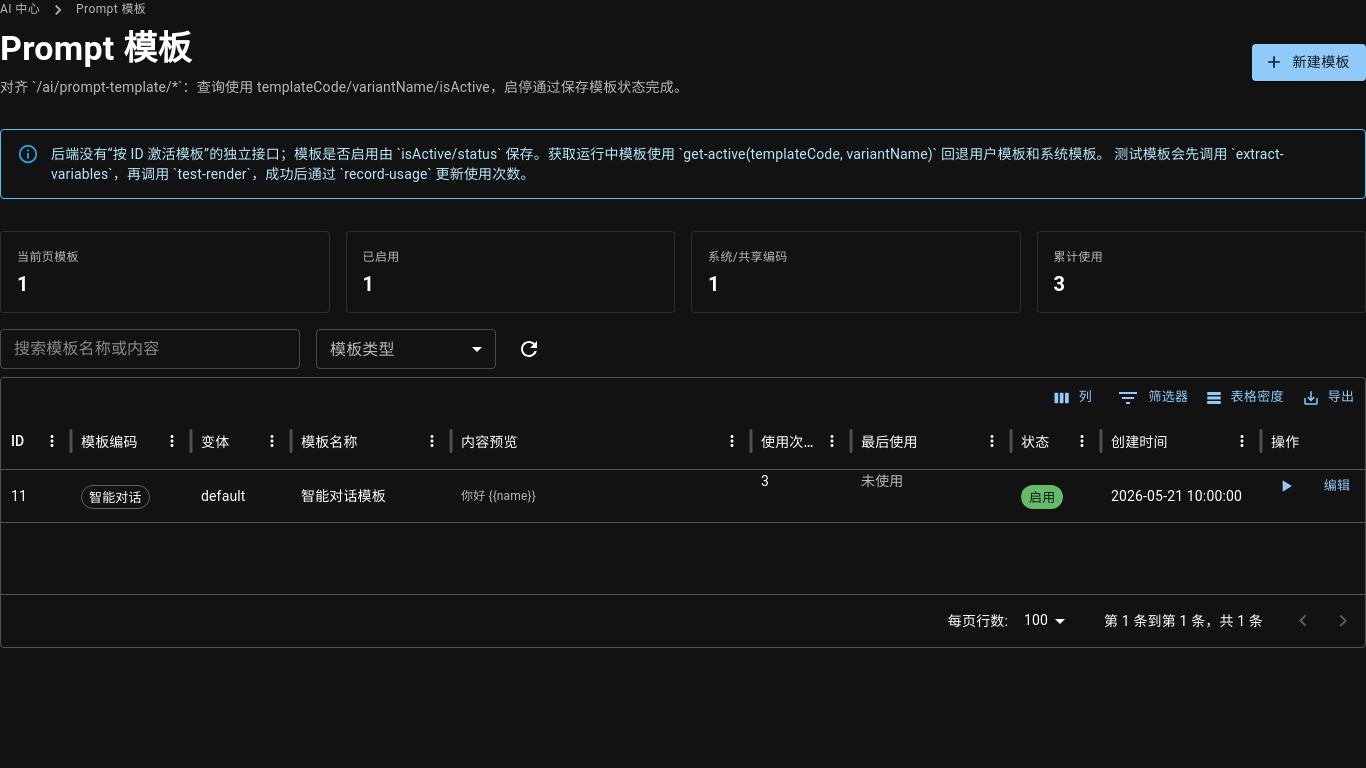
Scenario: Prompt tools pages › PromptTemplatePage uses a theme-aware render preview surface in dark mode
Expected: the text "智能对话模板" is shown, [301,488,386,504]
Click the button named "测试模板" at x=1286, y=486, box [1271,471,1301,502]
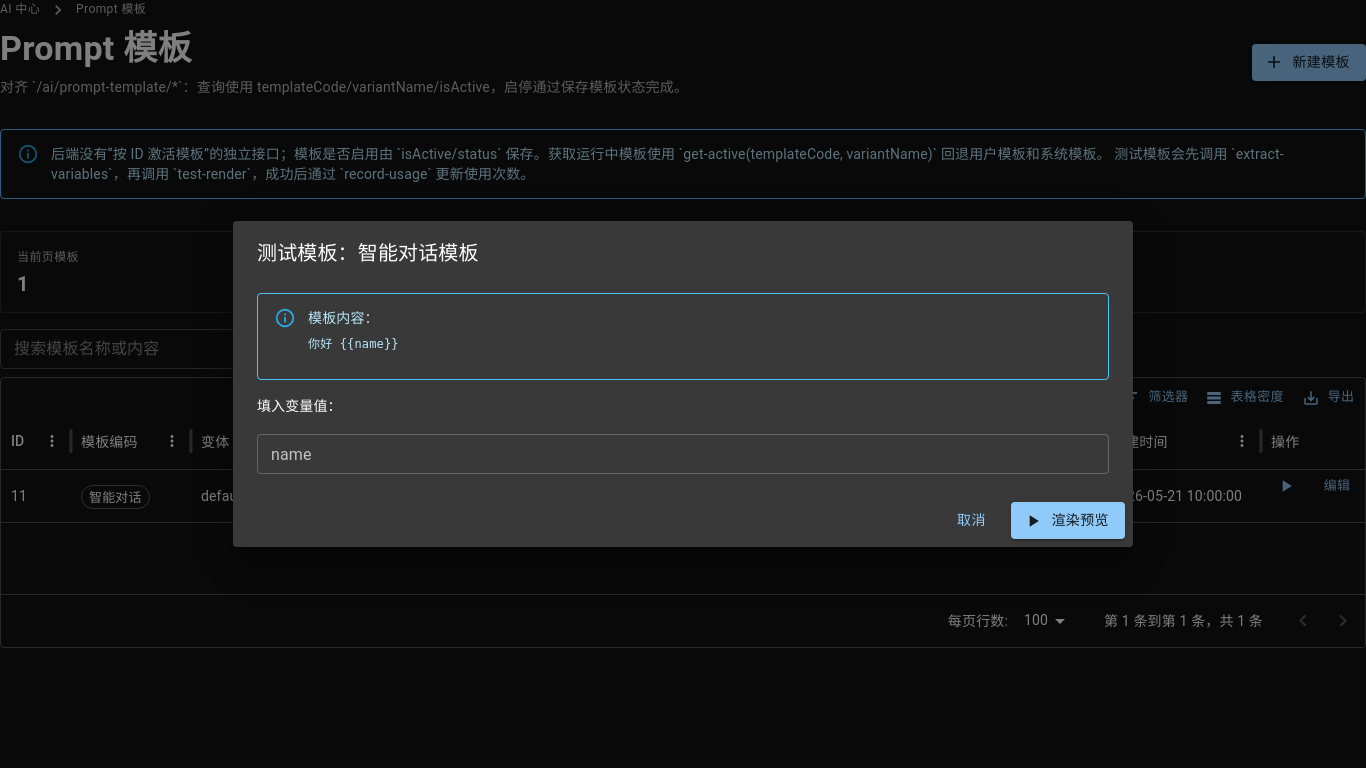
Type "张三" into the field labelled "name" at x=683, y=454, box [257,434,1109,474]
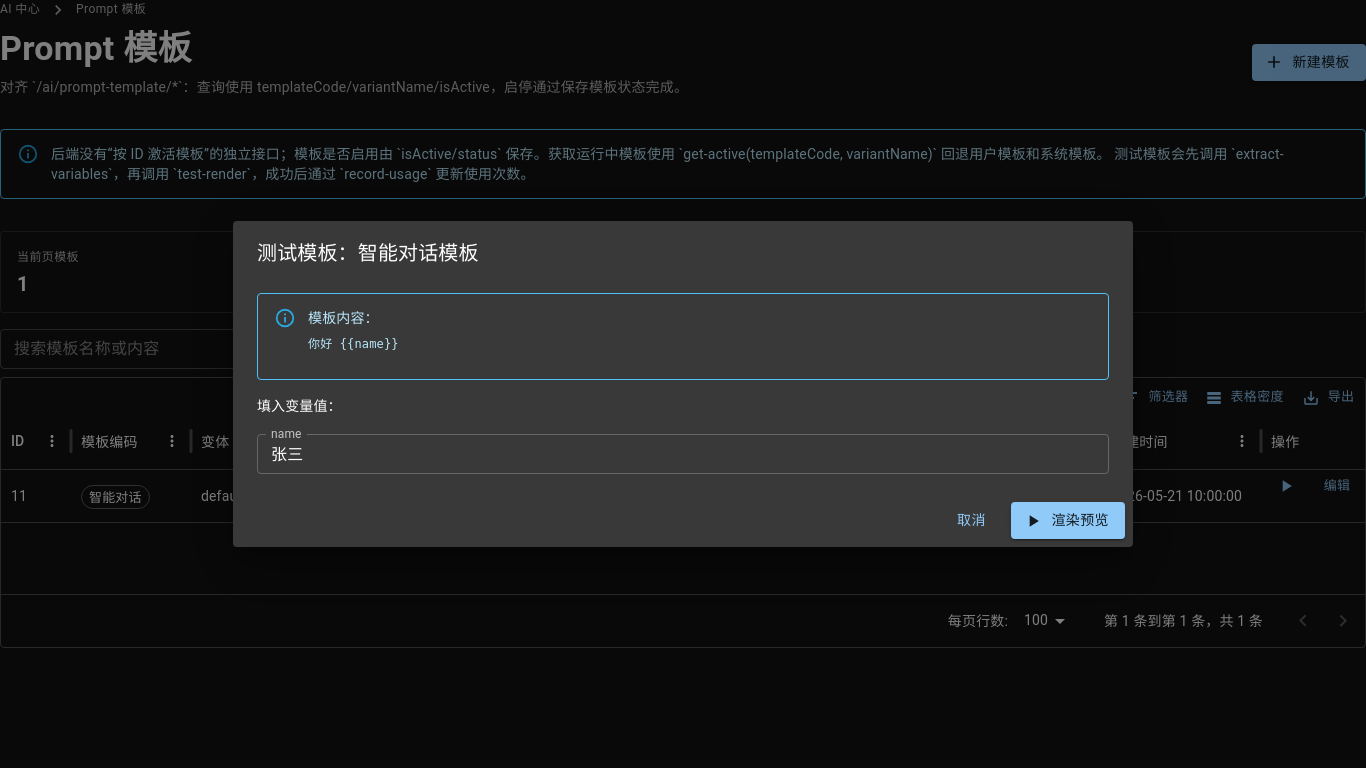
Click the button "渲染预览" at x=1068, y=521, box [1011,502,1125,539]
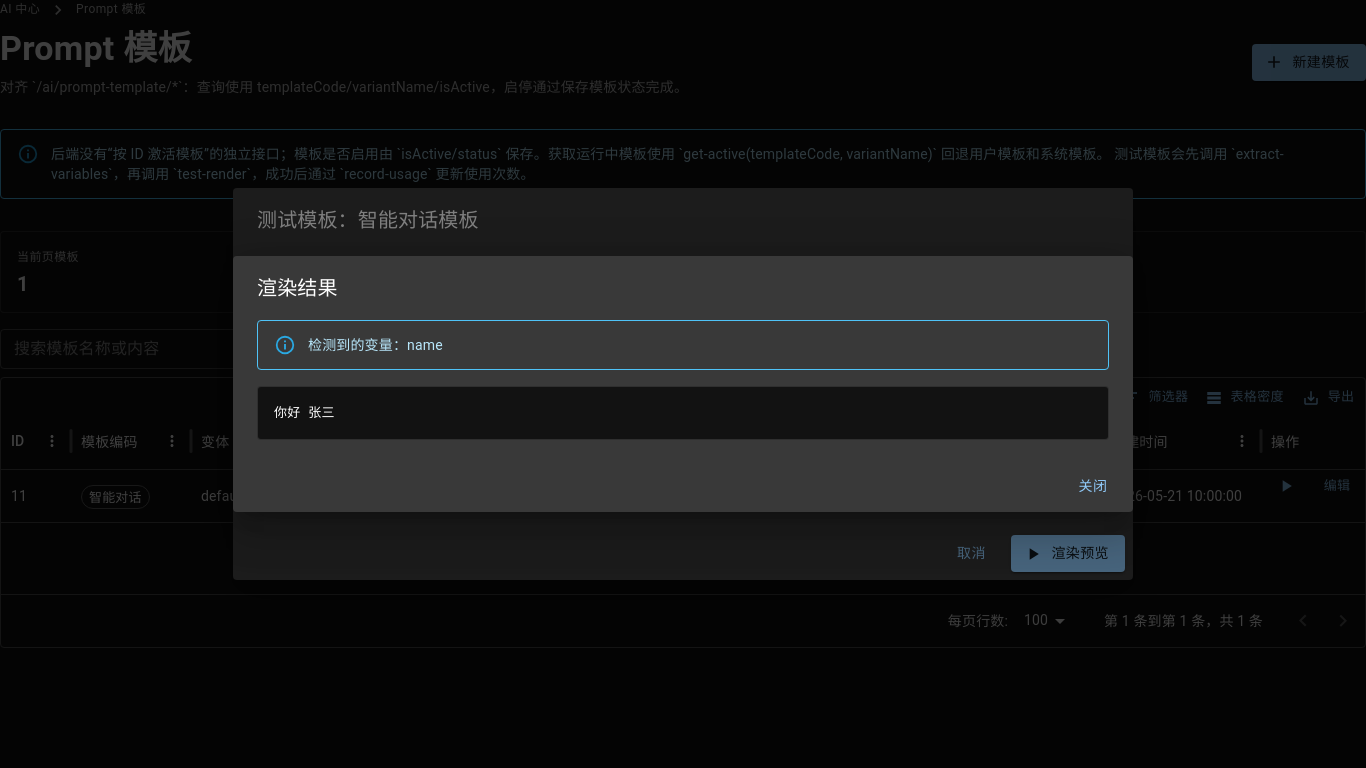
Now the text "你好 张三" is shown, box [257,386,1109,440]
